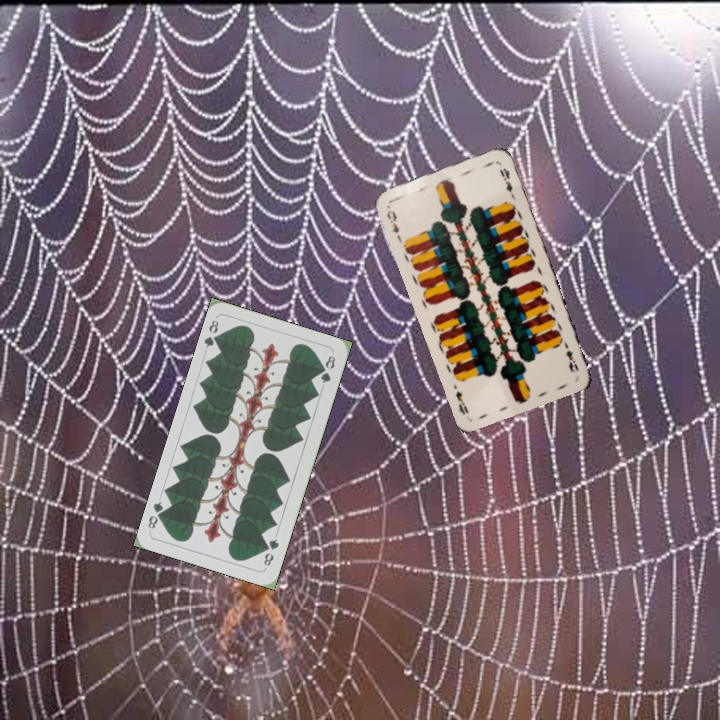E9: (557, 338, 581, 375), (383, 206, 402, 236)
G8: (200, 316, 224, 350), (260, 534, 282, 571)
